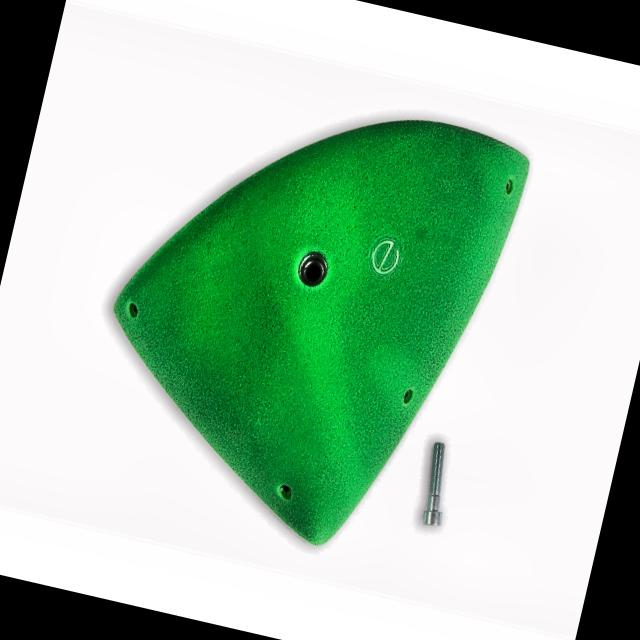Hold: (85, 99, 549, 577)
